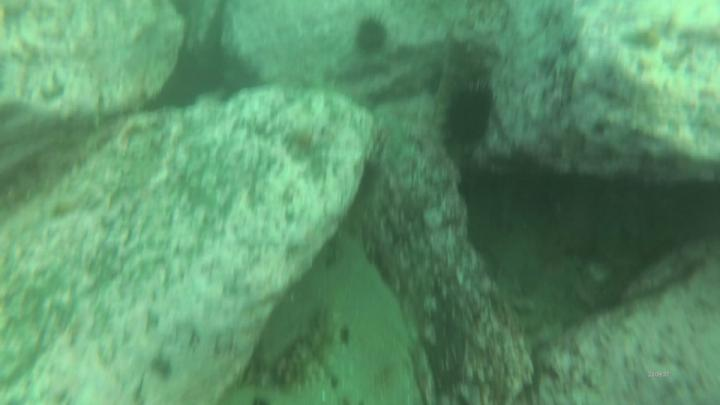echinus: (274, 308, 337, 387)
starfish: (442, 74, 496, 149), (352, 14, 393, 55)
